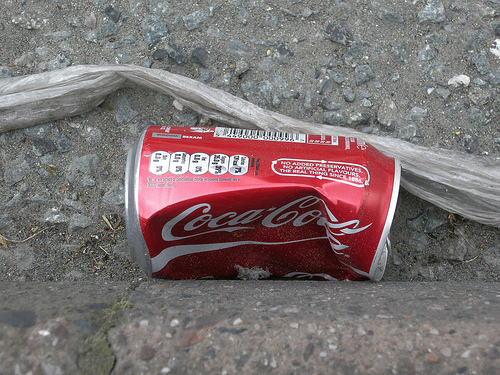litter: (123, 125, 400, 283), (0, 64, 272, 124), (402, 135, 500, 229)
